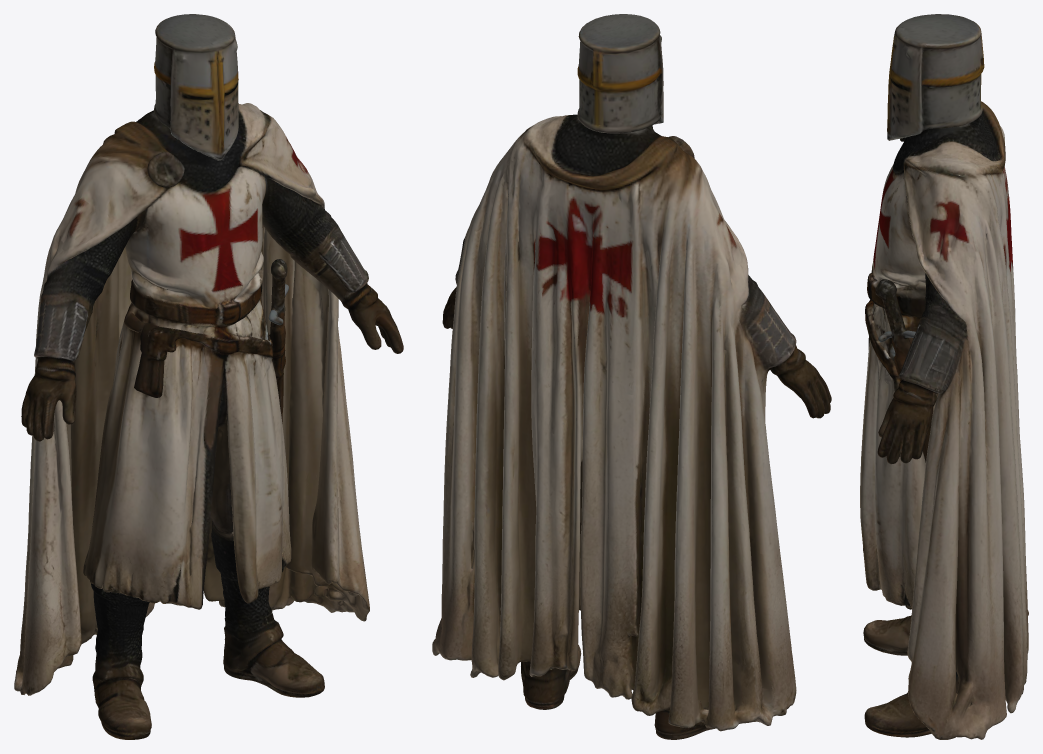
File: medieval+knight+3d+model.obj
3 renders of one model, left to right at view 1: azimuth 30°, elevation 25°; view 2: azimuth 150°, elevation 25°; view 3: azimuth 270°, elevation 25°, orthographic. The views are drawn at different scales.
Visible parts, largest first — view 1: tripo_node_c267f100-3f3c-419d-a5aa-1e05173feed3; view 2: tripo_node_c267f100-3f3c-419d-a5aa-1e05173feed3; view 3: tripo_node_c267f100-3f3c-419d-a5aa-1e05173feed3.
Boxes of the visible parts, x1,y1,x2,y2 form: tripo_node_c267f100-3f3c-419d-a5aa-1e05173feed3: [14, 14, 403, 739]; tripo_node_c267f100-3f3c-419d-a5aa-1e05173feed3: [432, 14, 831, 739]; tripo_node_c267f100-3f3c-419d-a5aa-1e05173feed3: [860, 14, 1028, 739].
Size of the model in its own units: 0.5778 by 0.9999 by 0.2303.
Materials: 1 (1 with a texture image).
